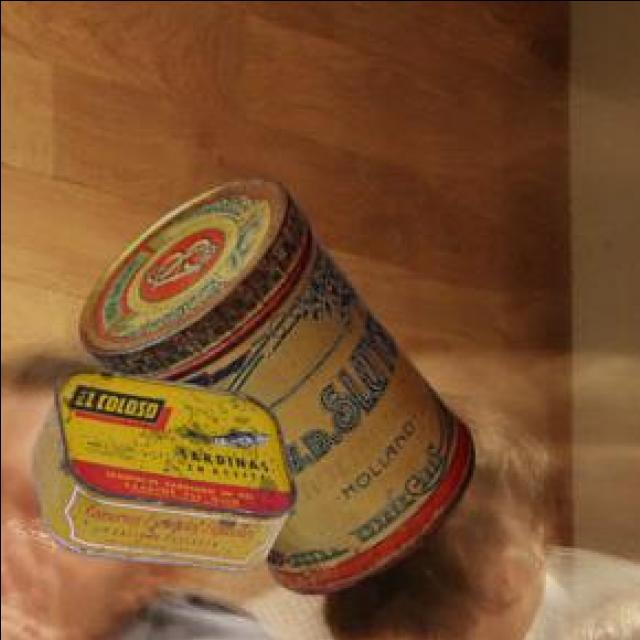logam: (76, 173, 469, 590), (28, 365, 292, 568)
